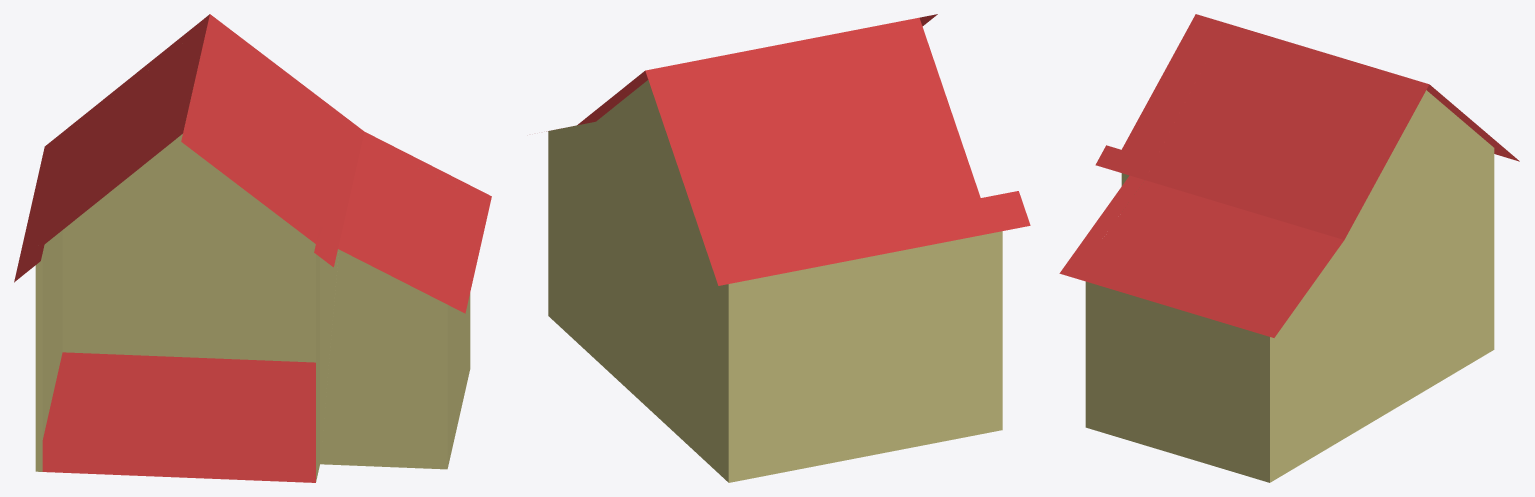
The picture shows the model from 3 angles, left to right: view 1: azimuth 30°, elevation 25°; view 2: azimuth 150°, elevation 25°; view 3: azimuth 270°, elevation 25°; orthographic projection. The views are drawn at different scales.
Size of the model in its own units: 20.92 by 18.44 by 14.01.
